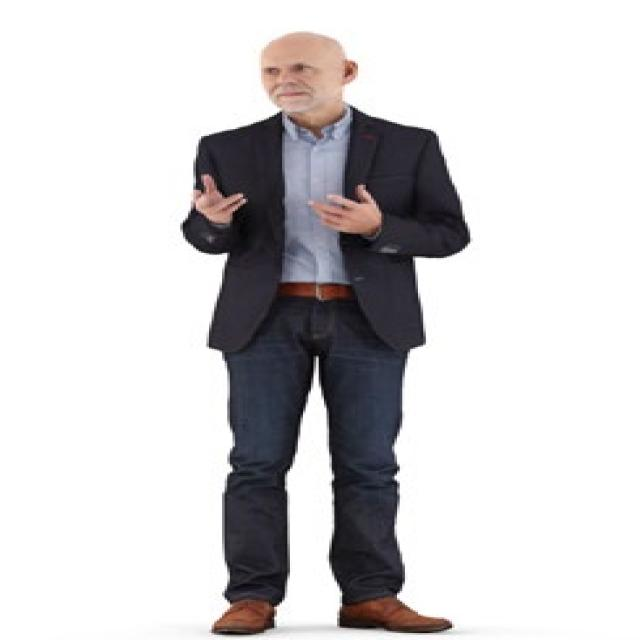standing: (178, 31, 473, 635)
